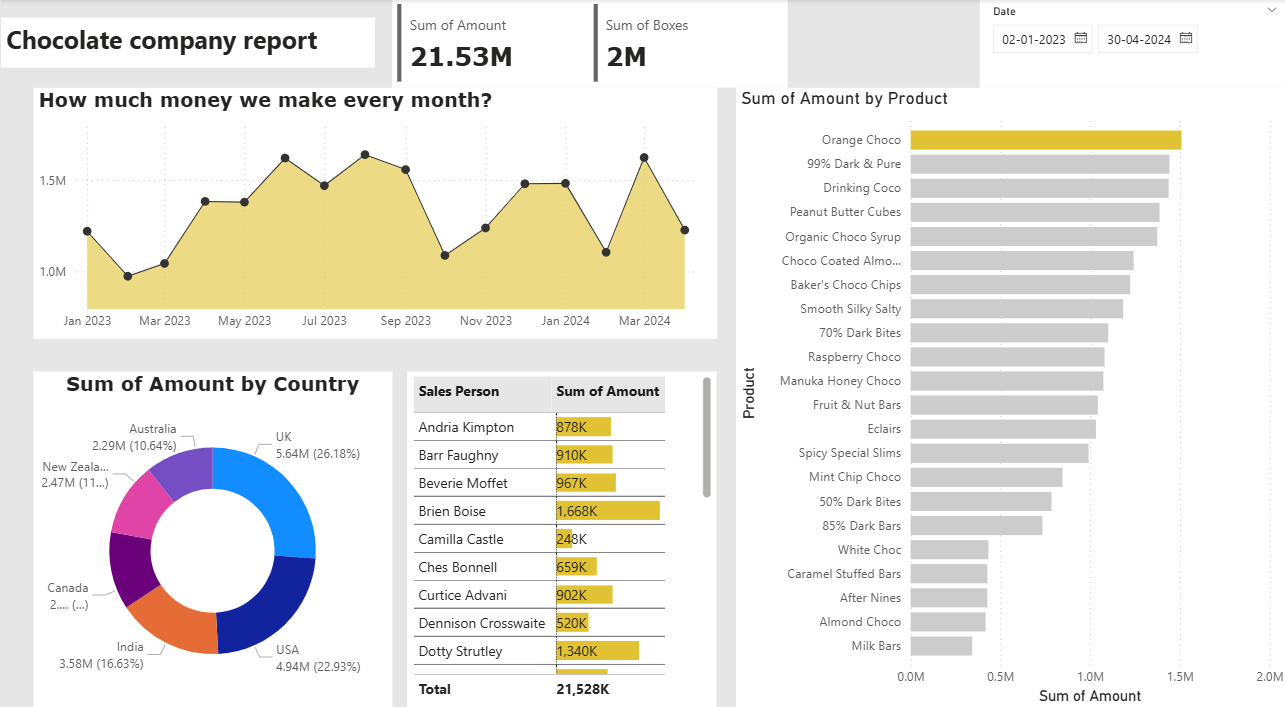

The dashboard page shown, as its layout file describes it:
{"tool":"powerbi","page":{"name":"My First Report","canvas":[1280,720],"ordinal":1},"visuals":[{"type":"lineChart","title":"How much money we make every month?","fields":{"Category":["data.Date.Variation.Date Hierarchy.Year","data.Date.Variation.Date Hierarchy.Quarter","data.Date.Variation.Date Hierarchy.Month","data.Date.Variation.Date Hierarchy.Day"],"Y":["Sum(data.Amount)"]},"box":[31.4,86,659.7,242.8],"z":0},{"type":"donutChart","fields":{"Category":["data.Country"],"Y":["Sum(data.Amount)"]},"box":[31.4,360.1,346.1,324.1],"z":1000},{"type":"tableEx","fields":{"Values":["data.Sales Person","Sum(data.Amount)"]},"box":[392.6,360.1,298.5,324.1],"z":2000},{"type":"clusteredBarChart","fields":{"Category":["data.Product"],"Y":["Sum(data.Amount)"]},"box":[709.7,86,534.3,600.5],"z":3000},{"type":"cardVisual","fields":{"Data":["Sum(data.Amount)","Sum(data.Boxes)"]},"box":[377.6,0,381.2,85.7],"z":4000},{"type":"slicer","fields":{"Values":["data.Date"]},"box":[944.3,0,299.7,86],"z":5000},{"type":"textbox","box":[0,18.1,360.7,48.3],"z":6000}]}

Visuals, with their boxes in screenshot pixels (x1, y1, x2, y2), scaled from the page's 1280x720 canvas onto the 1285x707 screenshot:
"How much money we make every month?" lineChart: 32:84:694:323
donutChart - data.Country x Sum(data.Amount): 32:354:379:672
tableEx - data.Sales Person x Sum(data.Amount): 394:354:694:672
clusteredBarChart - data.Product x Sum(data.Amount): 712:84:1249:674
cardVisual - Sum(data.Amount) x Sum(data.Boxes): 379:0:762:84
slicer - data.Date: 948:0:1249:84
textbox: 0:18:362:65
